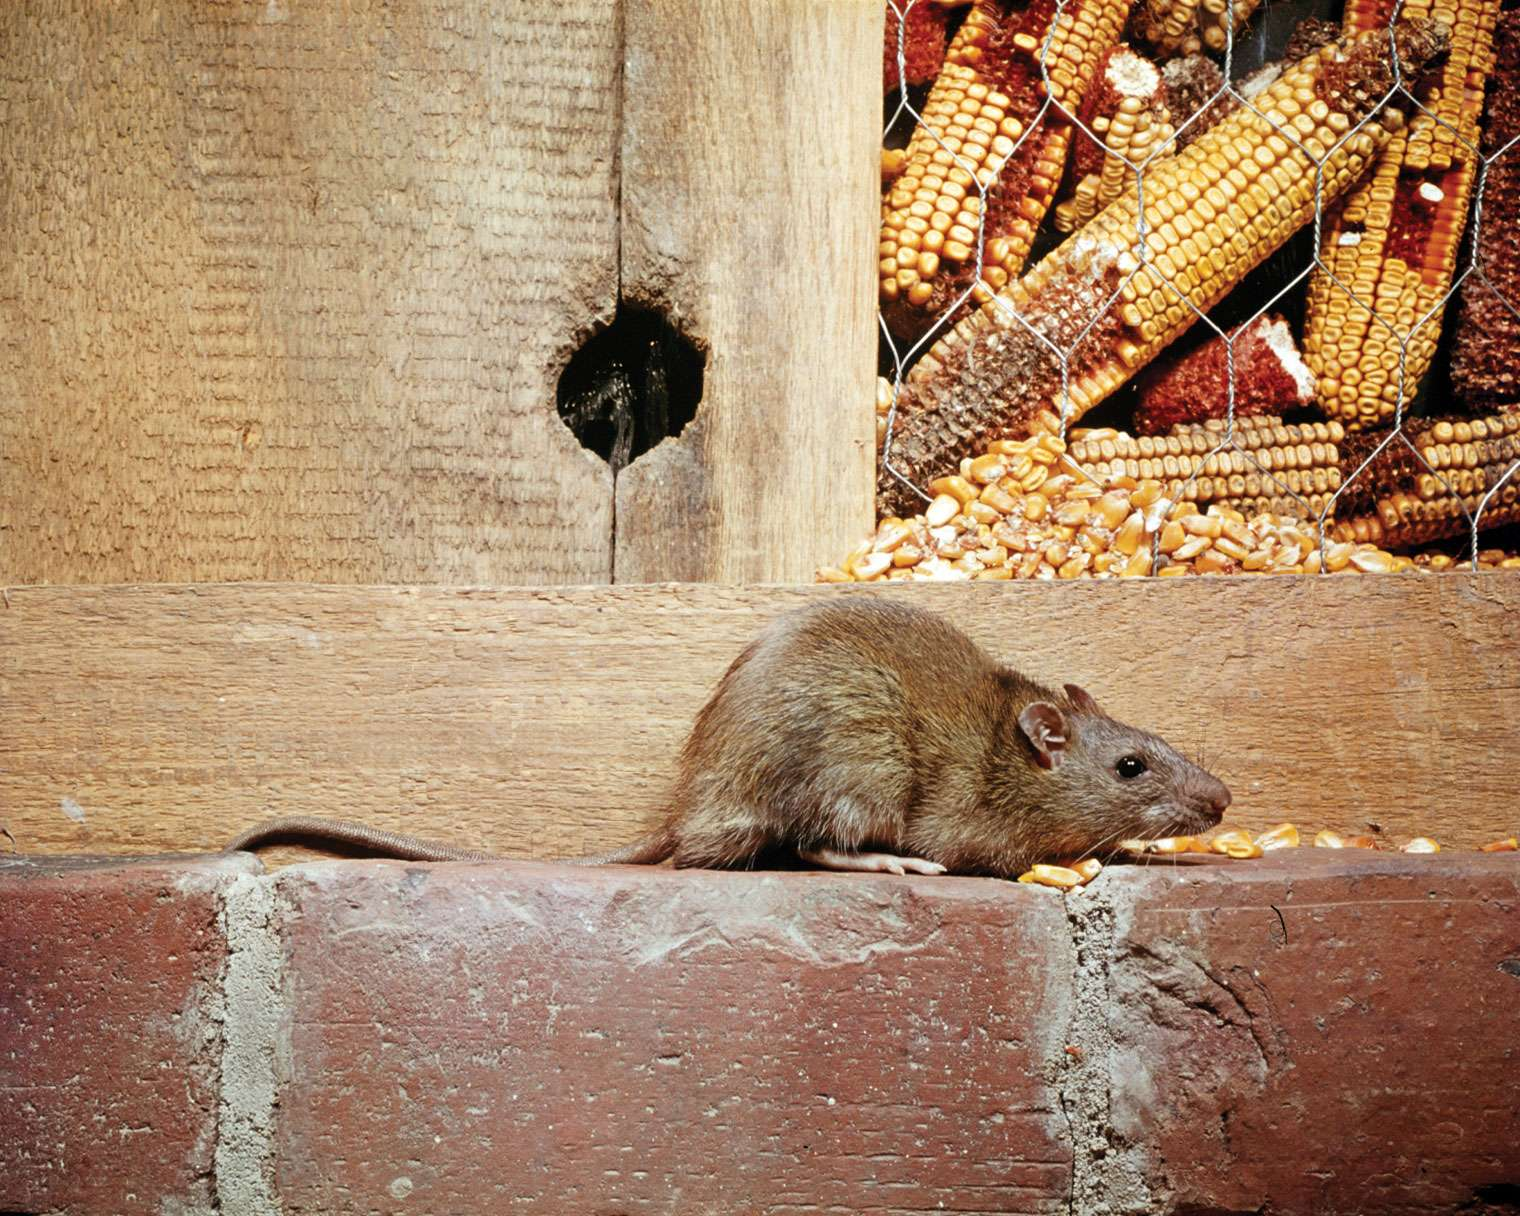Rat: (628, 578, 1254, 895)
